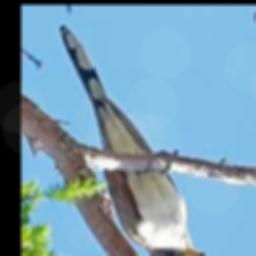Cuckoo: (59, 25, 204, 256)
